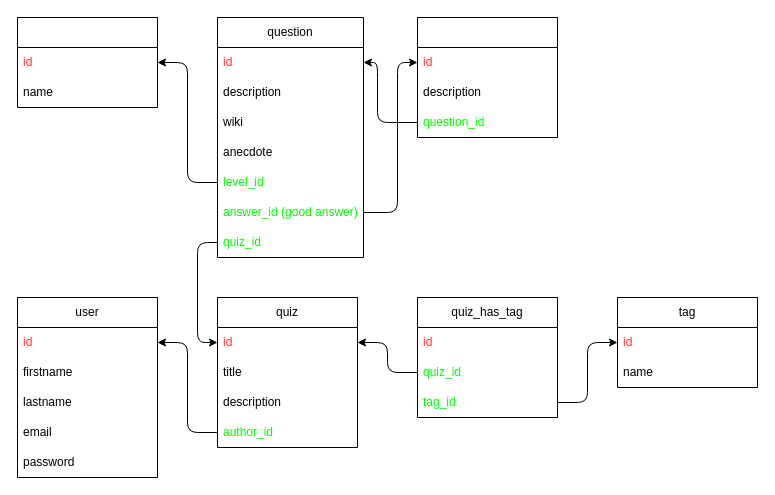
Image size: 775x495. Some labels were removed from this diagram. The shapes that lost their labels are listed below. From the top down, each one's box as (x1, y1, x2, y2) in pixels, then its label:
(16, 16, 158, 108): level
(416, 16, 558, 138): answer
